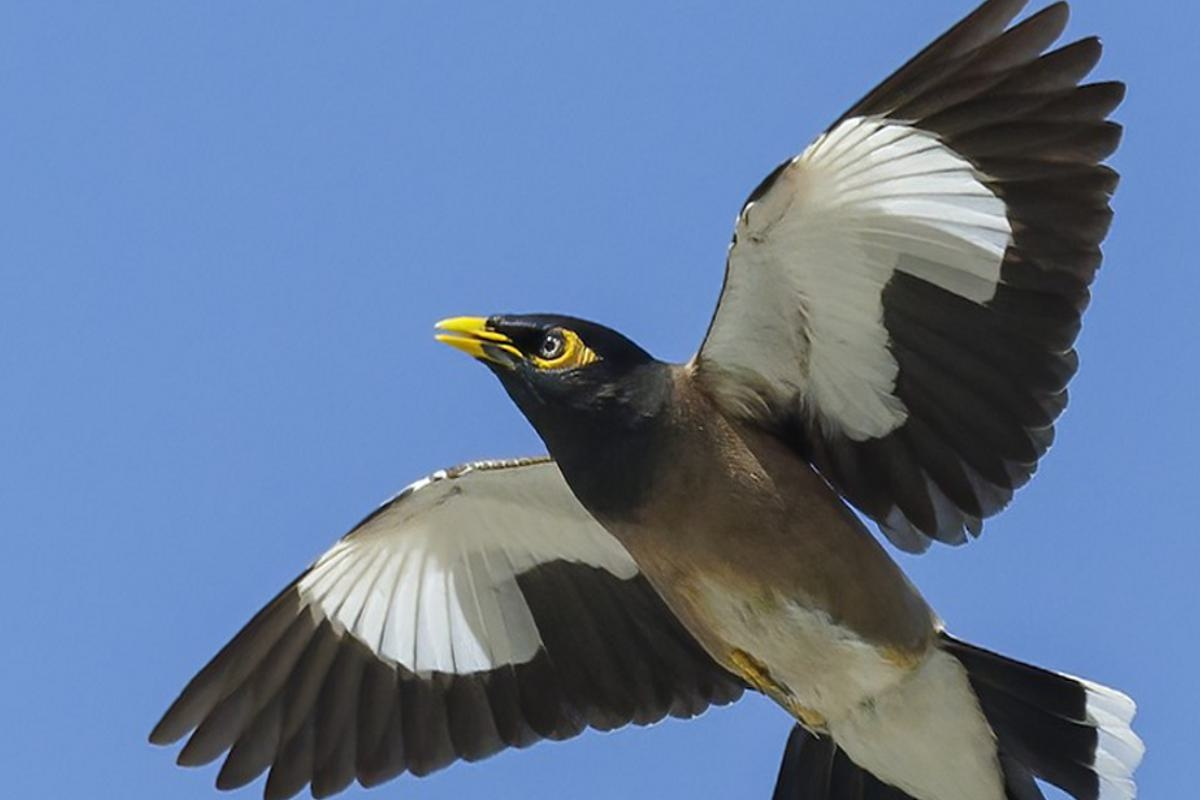myna: (341, 184, 1129, 800)
